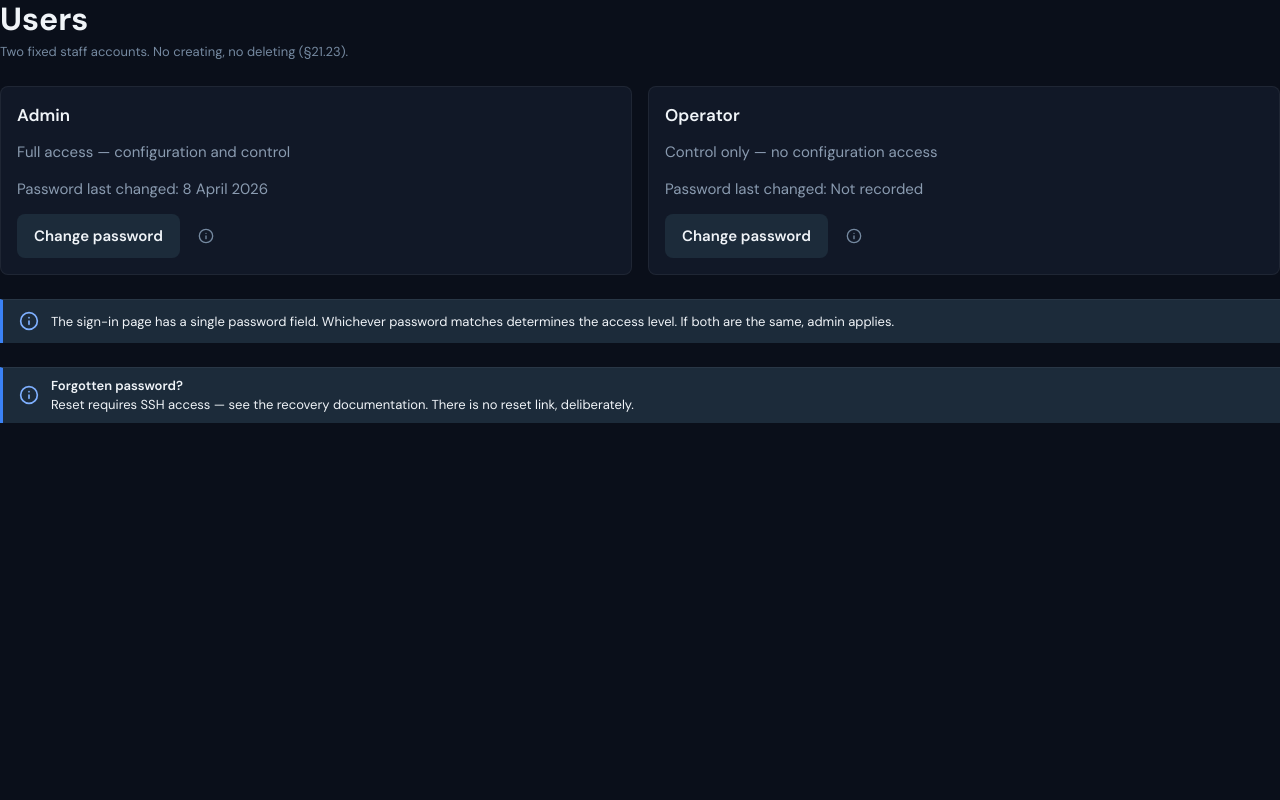
Test: UsersScreen › refuses locally when the confirmation does not match, without sending a request
The image size is (1280, 800).
Click the button "Change password" below "8 April 2026" at coordinates (98, 236), box x1=17 y1=214 x2=180 y2=258
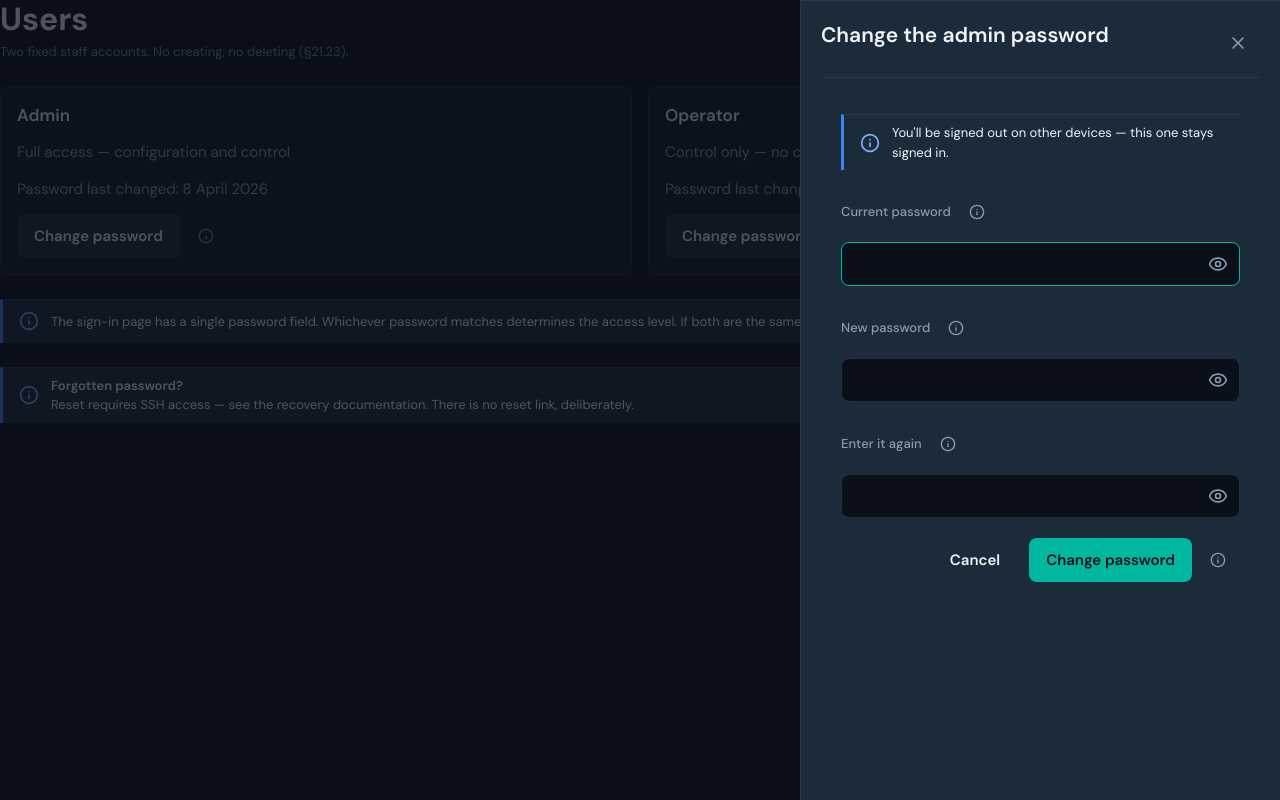
Check: the heading "Change the admin password" is shown, box x1=821 y1=21 x2=1109 y2=50
Type "old-admin-password" into the password field labelled "Current password" at coordinates (1040, 264), box x1=841 y1=242 x2=1240 y2=286
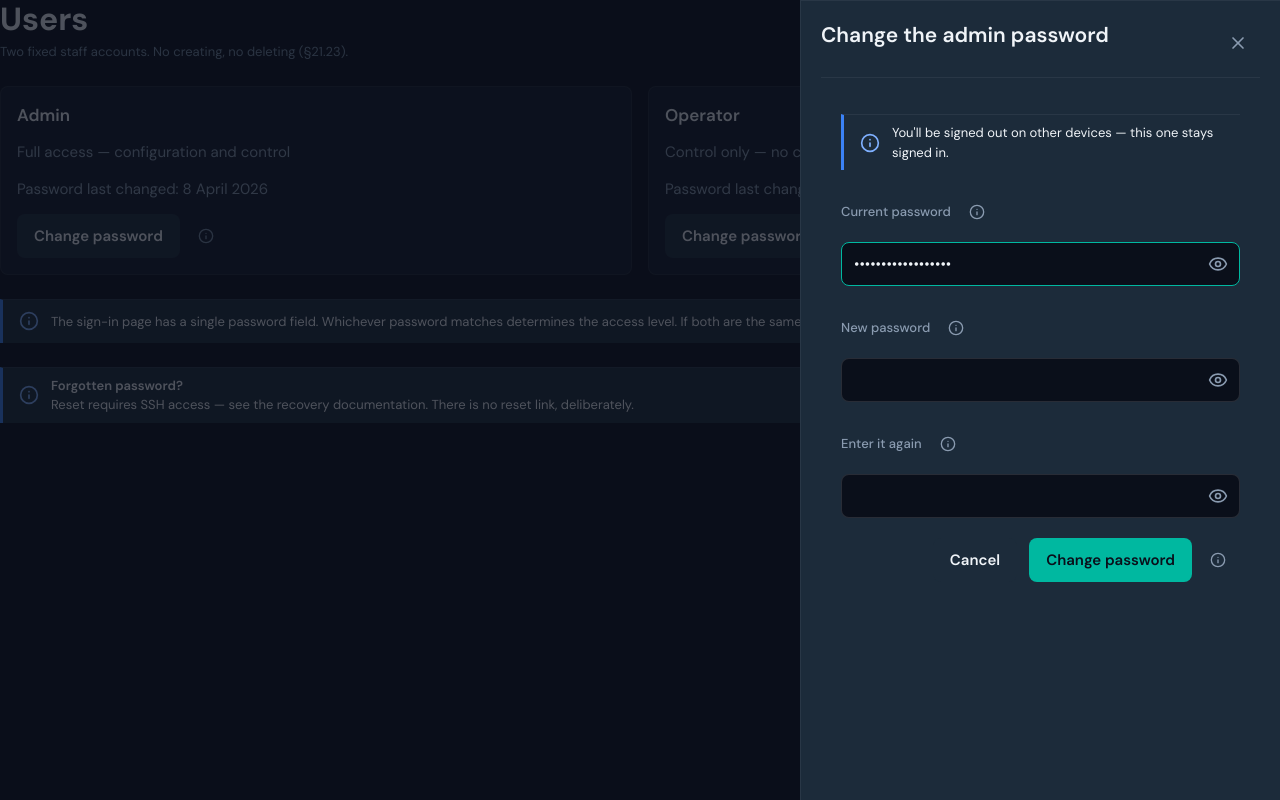
Type "a-new-admin-password" into the password field labelled "New password" at coordinates (1040, 380), box x1=841 y1=358 x2=1240 y2=402
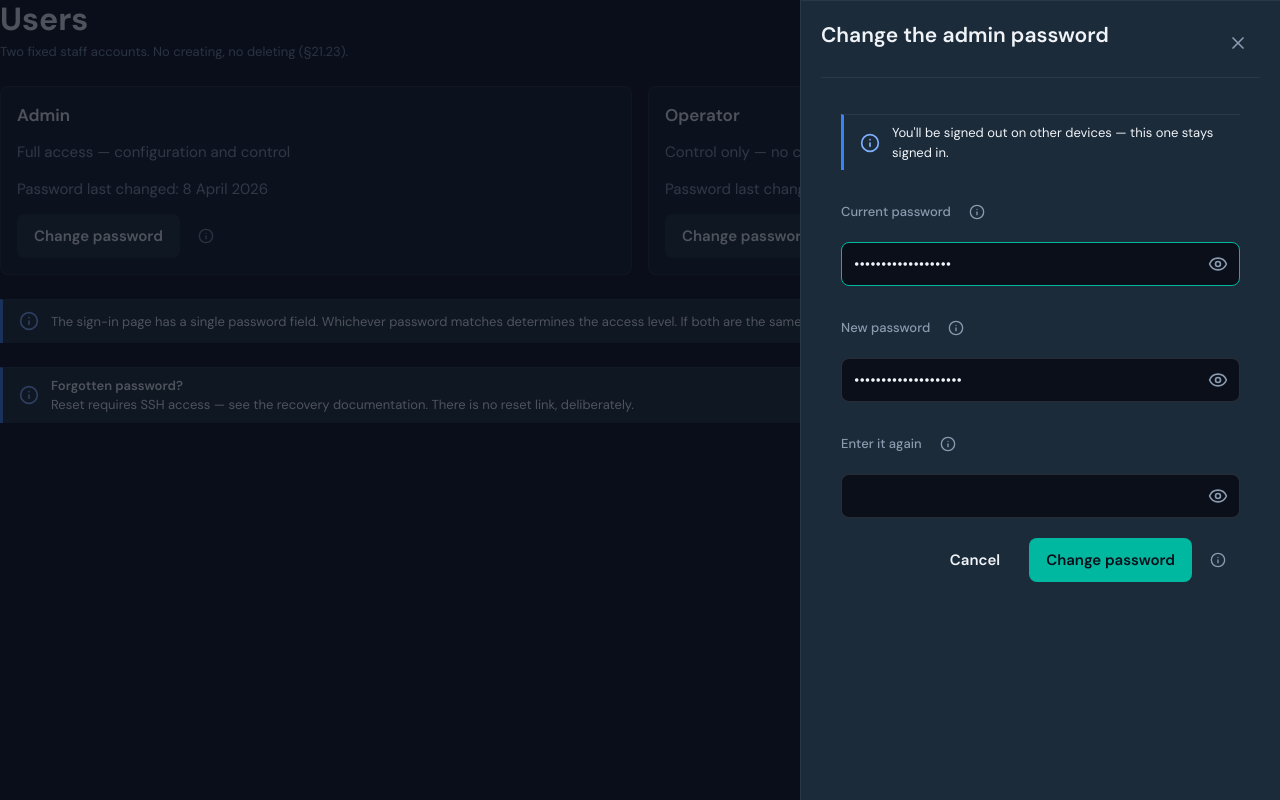
Type "does-not-match" into the password field labelled "Enter it again" at coordinates (1040, 496), box x1=841 y1=474 x2=1240 y2=518
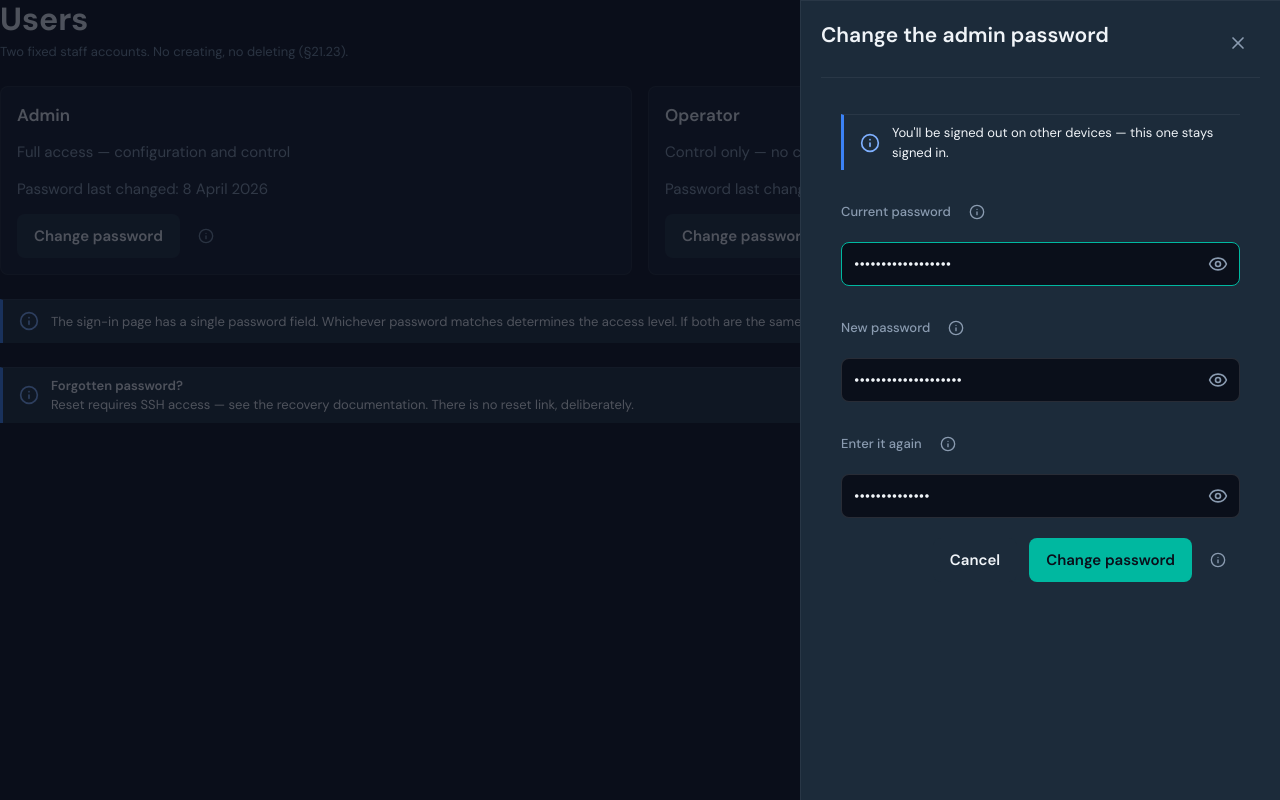
Click the button "Change password" at coordinates (1111, 560), box x1=1029 y1=538 x2=1192 y2=582
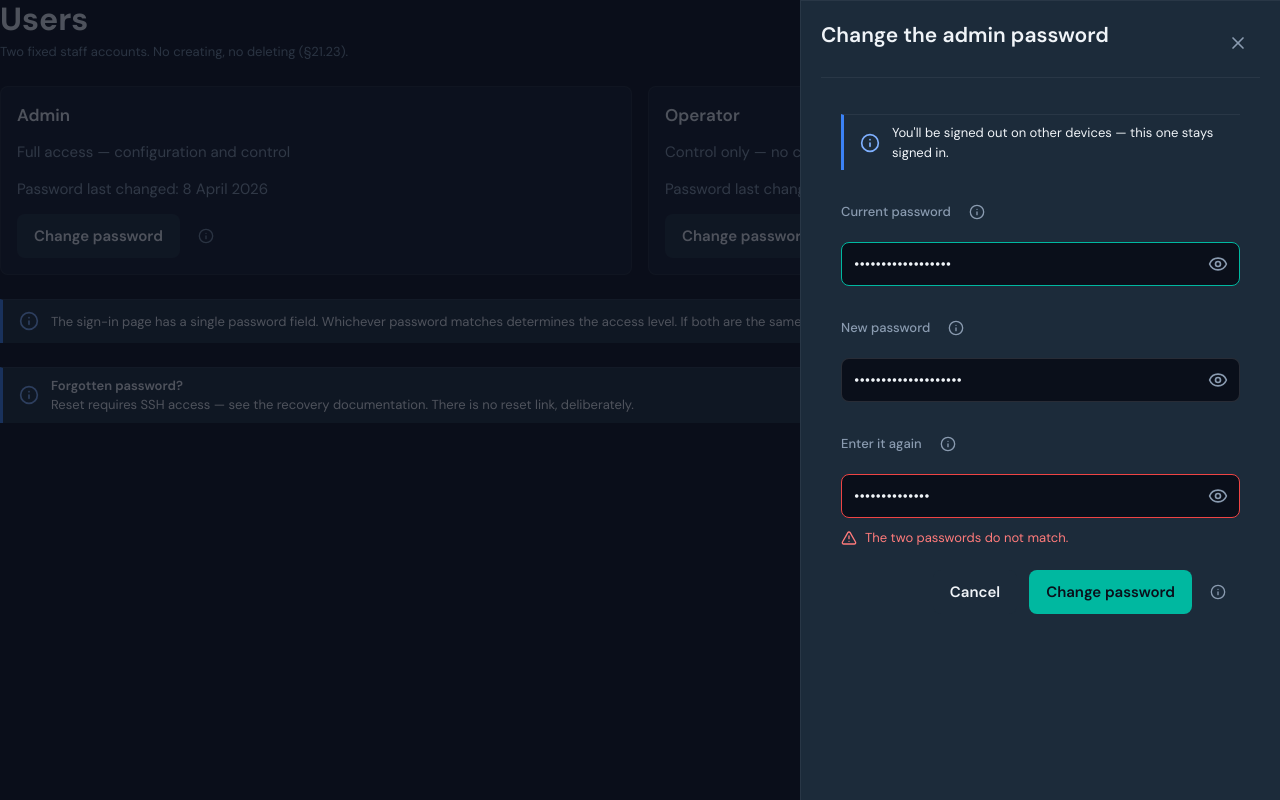
Check: the text "The two passwords do not match." is shown, box x1=865 y1=528 x2=1068 y2=548
